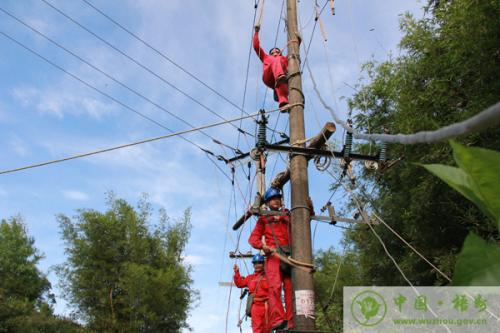helmet: (261, 184, 287, 213), (249, 251, 269, 273)
